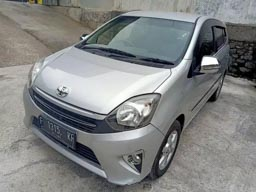plat: (38, 116, 75, 153)
